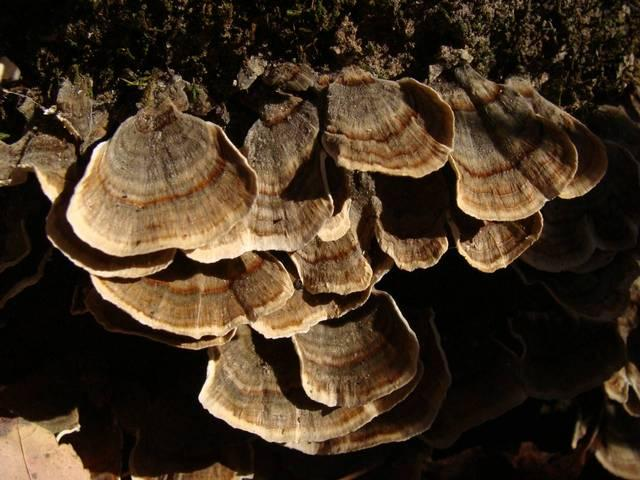Non-edible Mushroom: (37, 54, 609, 456), (61, 89, 260, 269)
